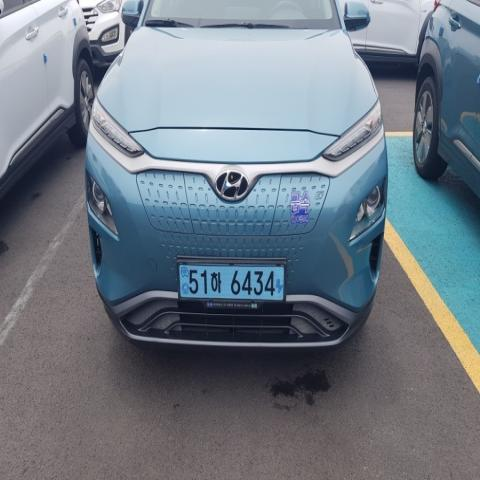LP: (167, 255, 294, 314)
